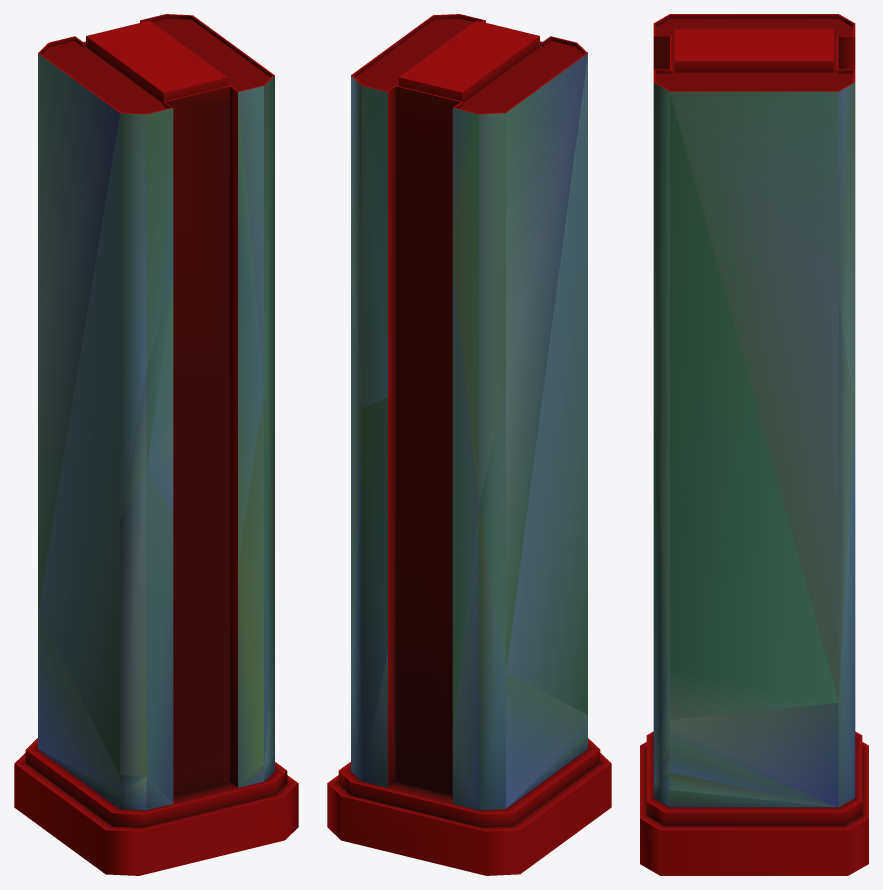
The model's file is buildings-industrial-modernskyscraper_v3.fbx.
3 views of the same model, side by side, from view 1: azimuth 30°, elevation 25°; view 2: azimuth 150°, elevation 25°; view 3: azimuth 270°, elevation 25° (orthographic). The views are drawn at different scales.
Parts seen in each view (by area): view 1: ModernSkyscraper_v3_windowRefl, ModernSkyscraper_v3_base; view 2: ModernSkyscraper_v3_windowRefl, ModernSkyscraper_v3_base; view 3: ModernSkyscraper_v3_windowRefl, ModernSkyscraper_v3_base.
Part boxes in pixels (bbox=[...]): ModernSkyscraper_v3_windowRefl: bbox=[38, 53, 274, 810]; ModernSkyscraper_v3_base: bbox=[14, 14, 298, 875]; ModernSkyscraper_v3_windowRefl: bbox=[351, 53, 587, 810]; ModernSkyscraper_v3_base: bbox=[327, 14, 611, 875]; ModernSkyscraper_v3_windowRefl: bbox=[653, 82, 855, 807]; ModernSkyscraper_v3_base: bbox=[640, 14, 868, 875].
Bounding box in the file's own units: 21.04 × 79.37 × 21.03.
